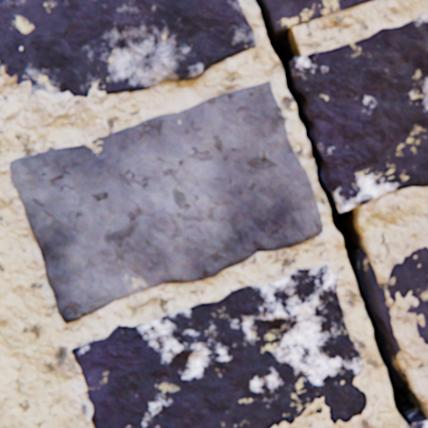brick: (11, 82, 322, 322), (73, 265, 366, 427), (291, 14, 427, 211), (0, 0, 255, 101), (387, 246, 427, 344), (263, 0, 375, 32), (374, 283, 393, 333), (413, 419, 427, 427), (316, 406, 322, 411)
crack: (254, 0, 427, 427)
